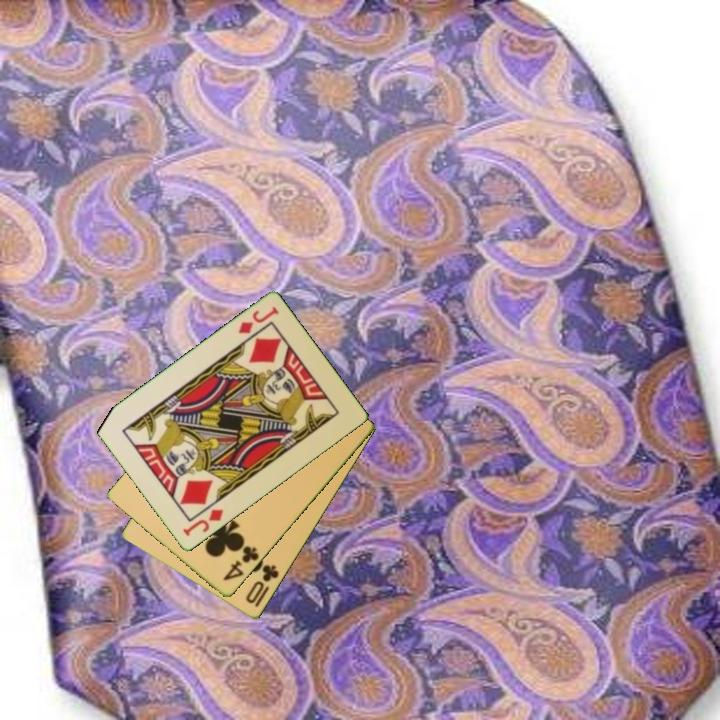10c: (242, 561, 282, 607)
4c: (219, 542, 262, 584)
Jd: (235, 303, 282, 337), (179, 506, 227, 539)
